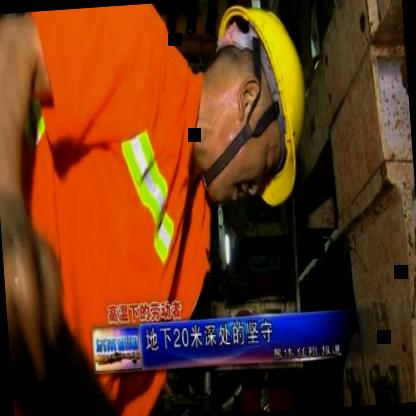helmet: (183, 0, 327, 215)
